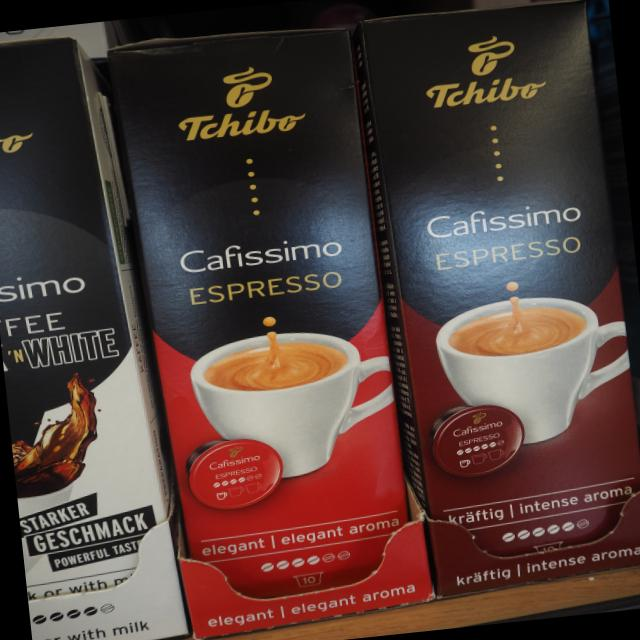Simo Es Elegant: (92, 21, 438, 639)
Simo Es Kraft: (354, 0, 640, 601)
Simo Kaffee BW: (0, 37, 186, 640)
